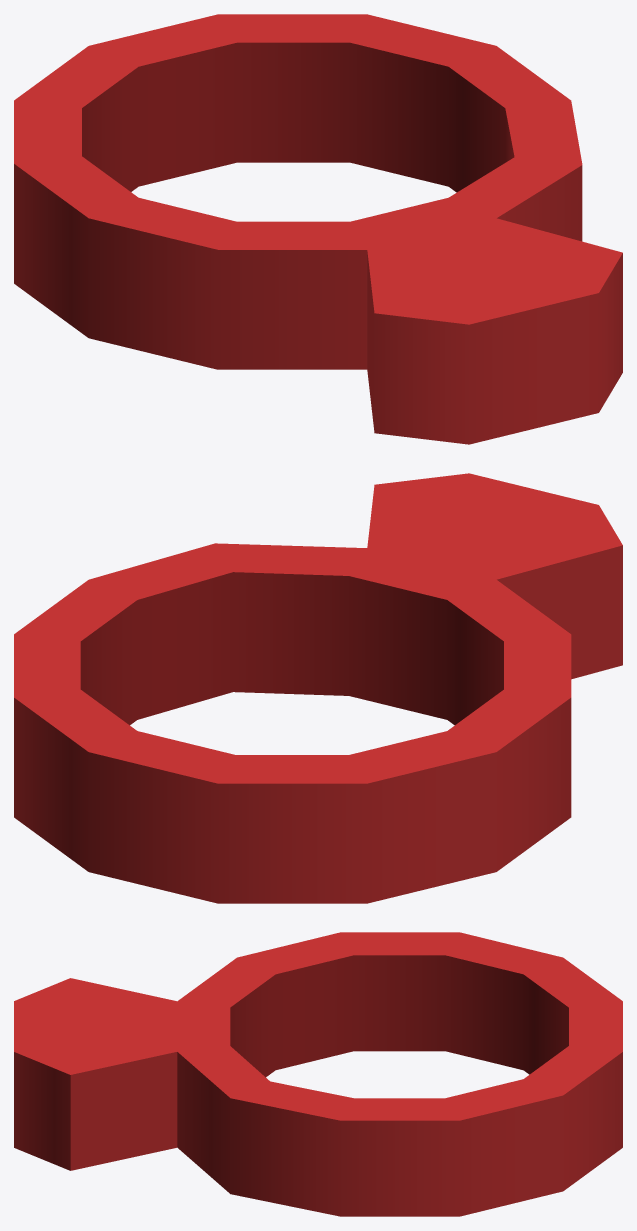
File: human-toys-toy-ring_v1.glb
The picture shows the model from 3 angles, top to bottom: view 1: azimuth 30°, elevation 25°; view 2: azimuth 150°, elevation 25°; view 3: azimuth 270°, elevation 25°; orthographic projection. The views are drawn at different scales.
Parts seen in each view (by area): view 1: Toy Ring; view 2: Toy Ring; view 3: Toy Ring.
Boxes of the visible parts, x1,y1,x2,y2 form: Toy Ring: [14, 14, 622, 444]; Toy Ring: [14, 473, 622, 903]; Toy Ring: [14, 932, 622, 1216].
Size of the model in its own units: 0.022 by 0.00522 by 0.03.
